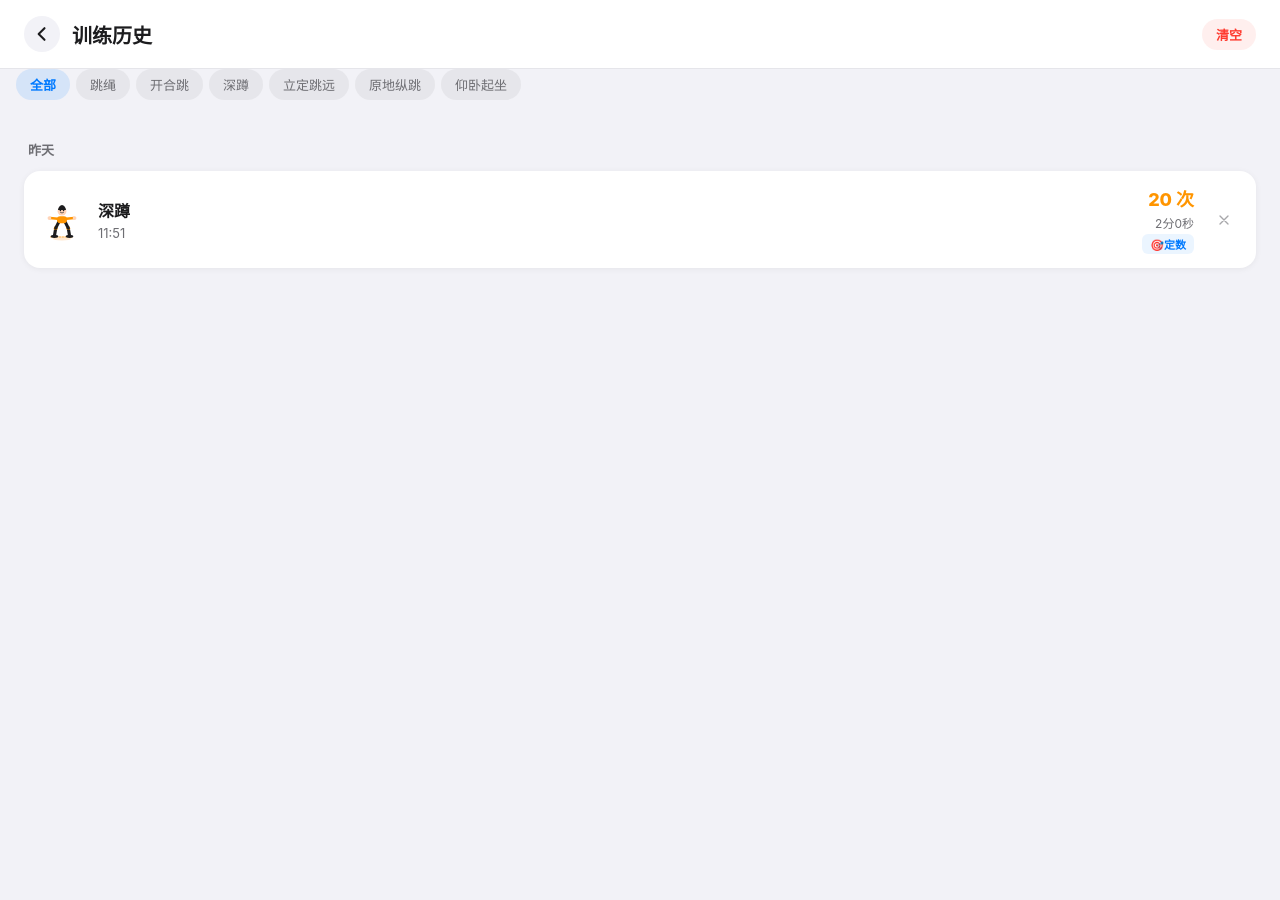
Scenario: HistoryPage › clear all › closes modal on cancel without clearing
Step 1. Click the button "清空" → (1229, 34), box [1202,18,1256,50]
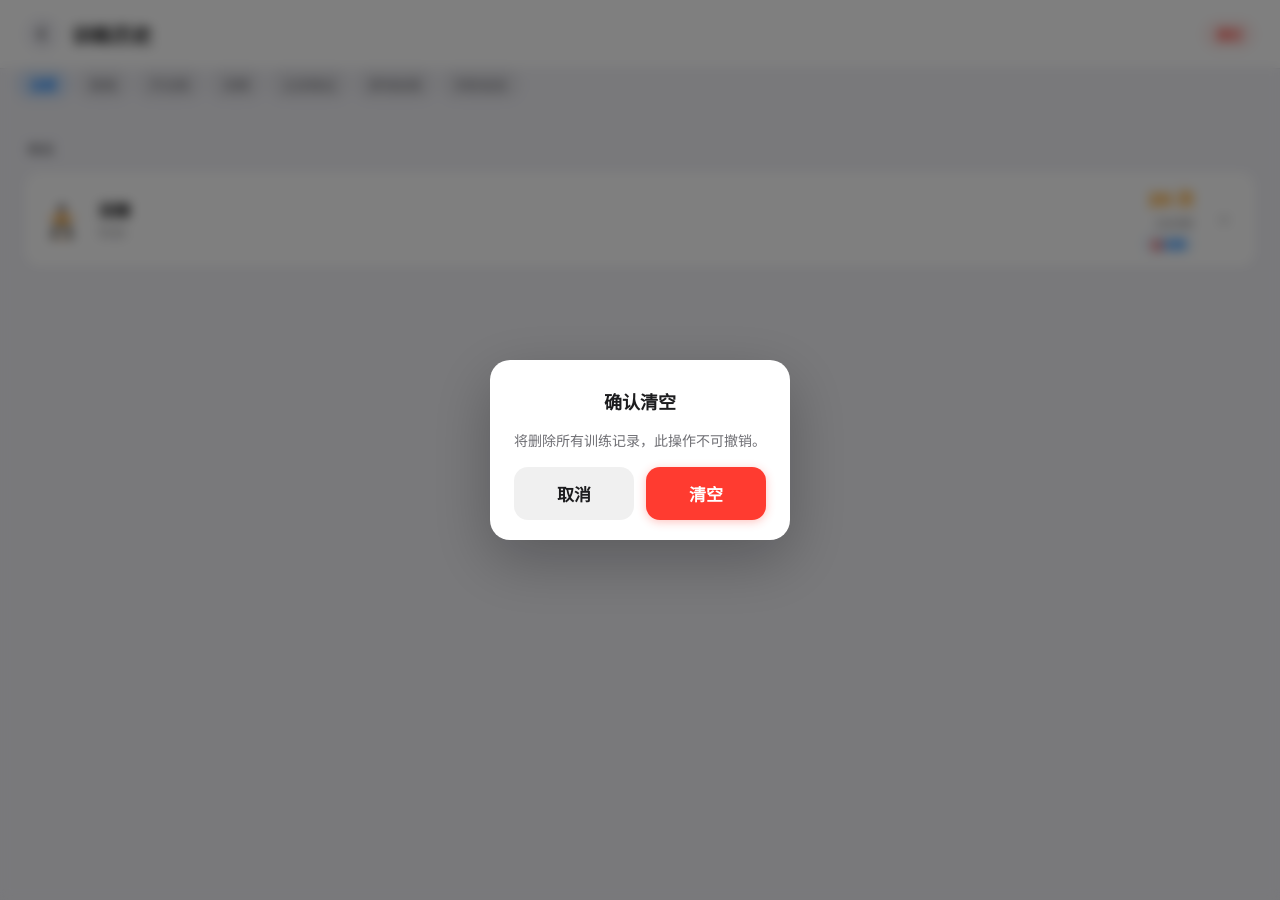
Expected: the heading "确认清空" is shown, [604,388,676,414]
Step 2. Click the button "取消" → (574, 494), box [514,467,634,520]
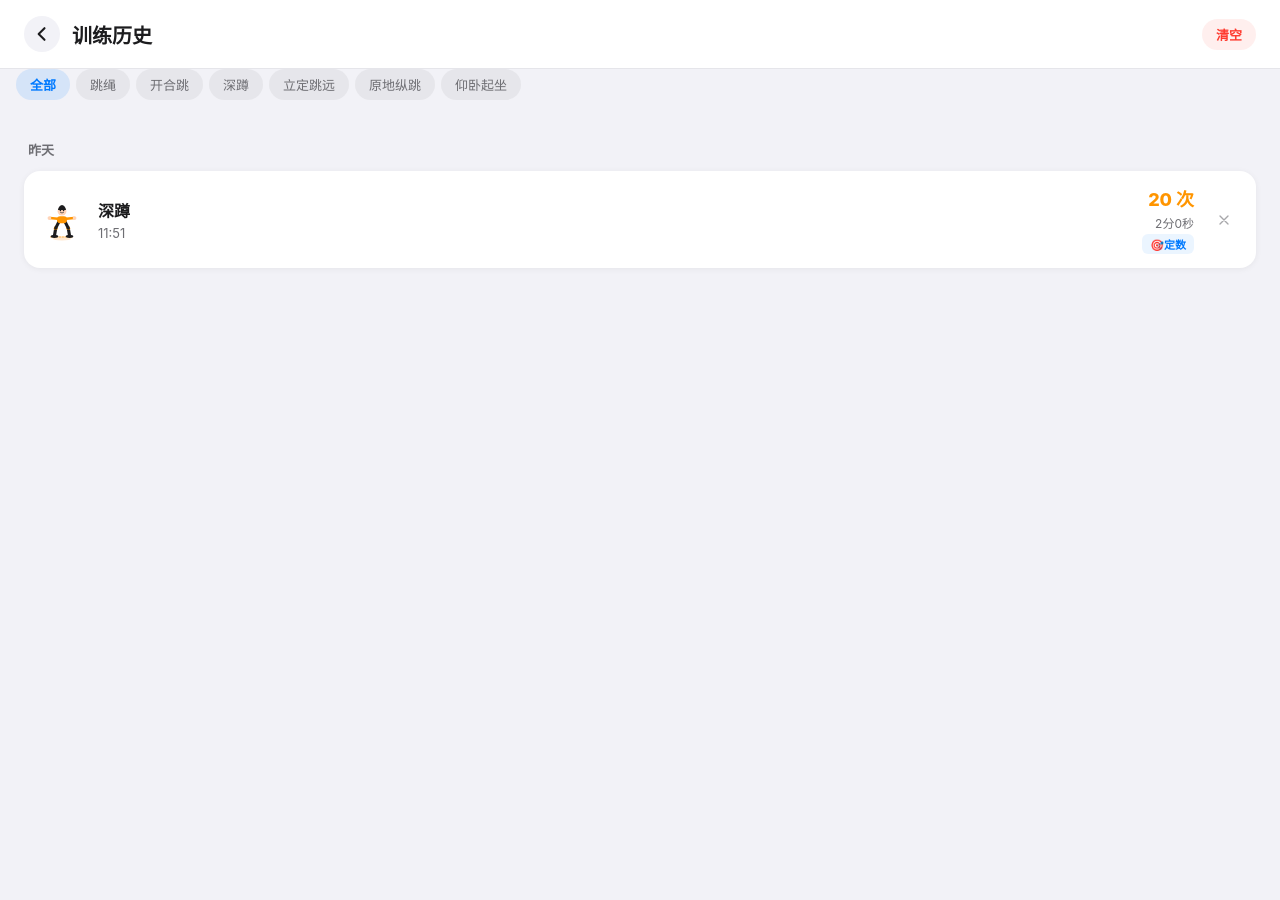
Expected: the heading "确认清空" is gone
